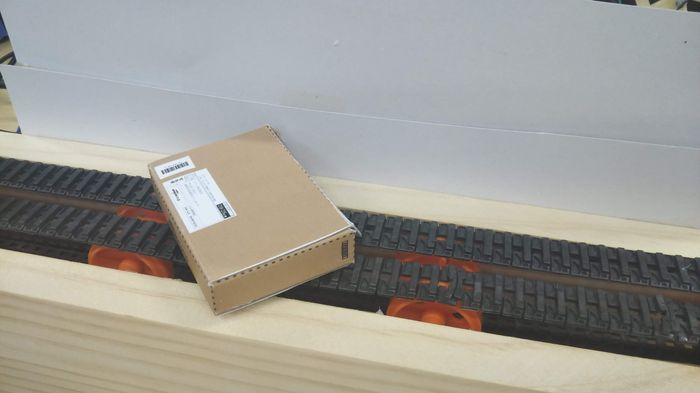box2: (145, 123, 358, 317)
